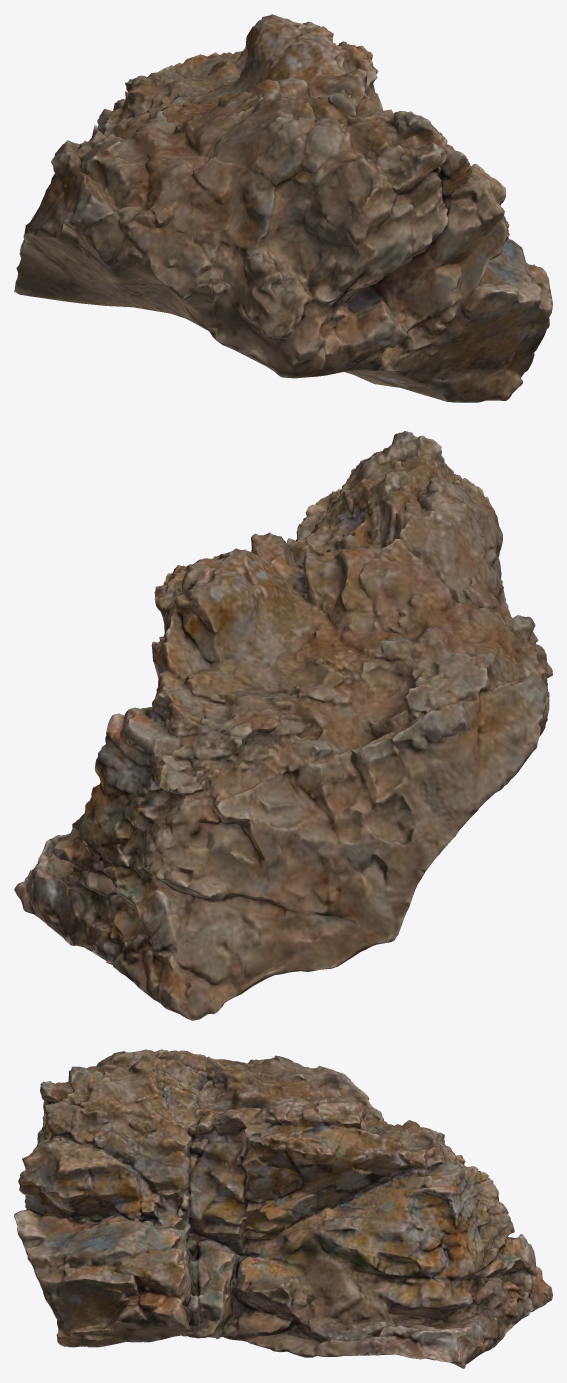
File: boulder.glb
3 renders of one model, top to bottom at view 1: azimuth 30°, elevation 25°; view 2: azimuth 150°, elevation 25°; view 3: azimuth 270°, elevation 25°, orthographic. The views are drawn at different scales.
Visible parts, largest first — view 1: boulder_01; view 2: boulder_01; view 3: boulder_01.
Part boxes in pixels (x1,y1,x2,y2): boulder_01: [14, 14, 552, 402]; boulder_01: [14, 431, 552, 1020]; boulder_01: [14, 1049, 552, 1368].
Size of the model in its own units: 1.27 by 1 by 1.83.
1 material, 1 textured.
